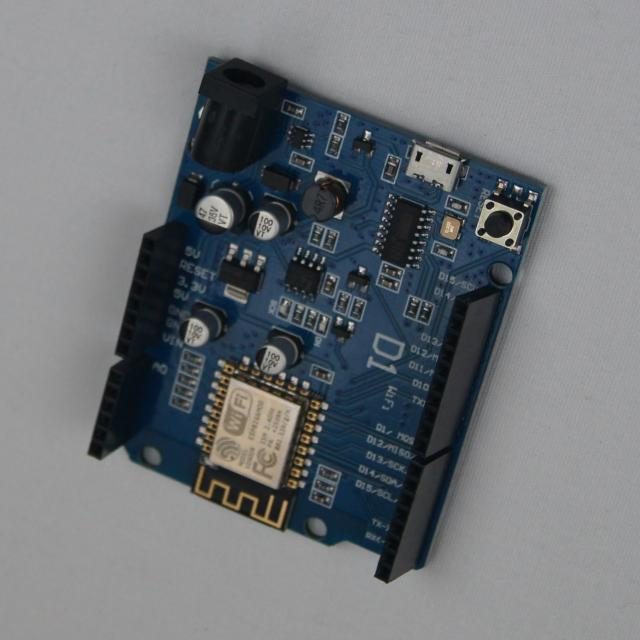Arduino Uno WiFi Shield: (89, 58, 548, 583)
